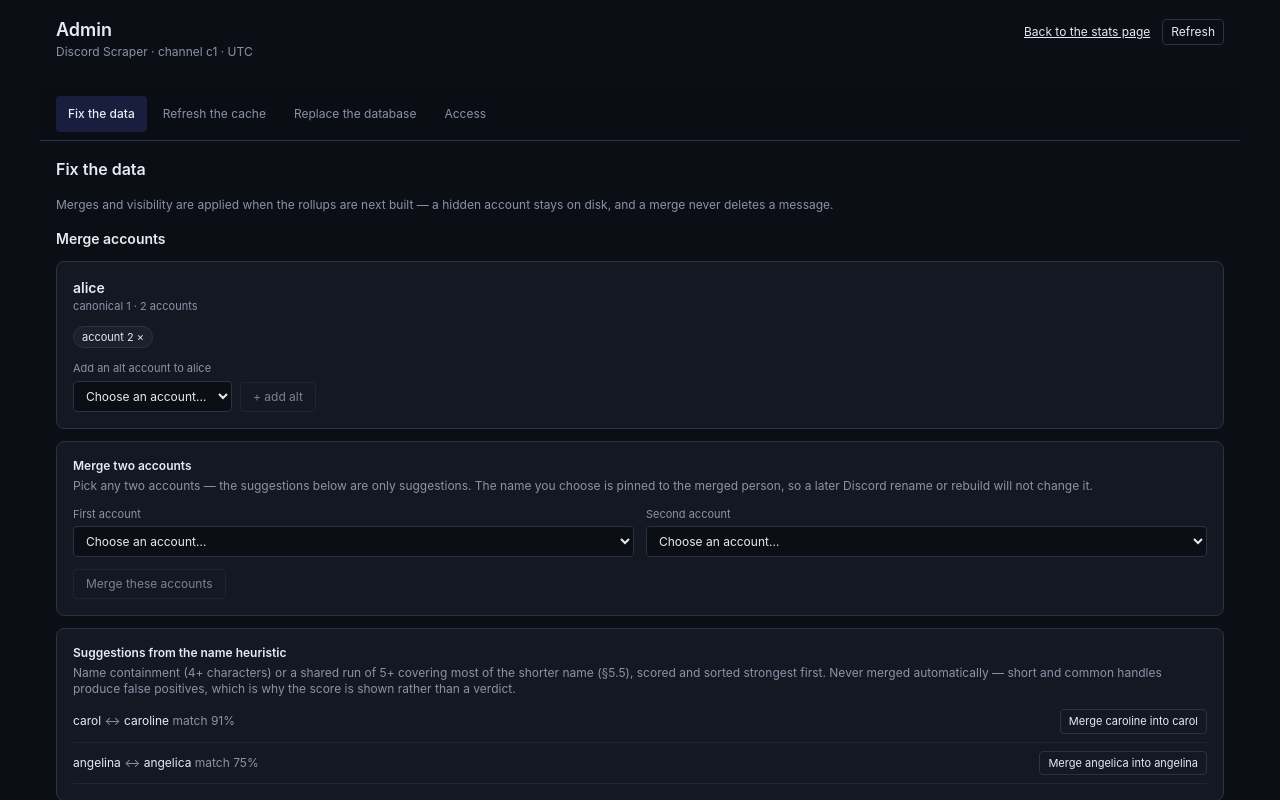
Test case: <Admin> › warns when the winning name is one another person already uses
Click the button "Fix the data": point(101, 114) [56,96,147,132]
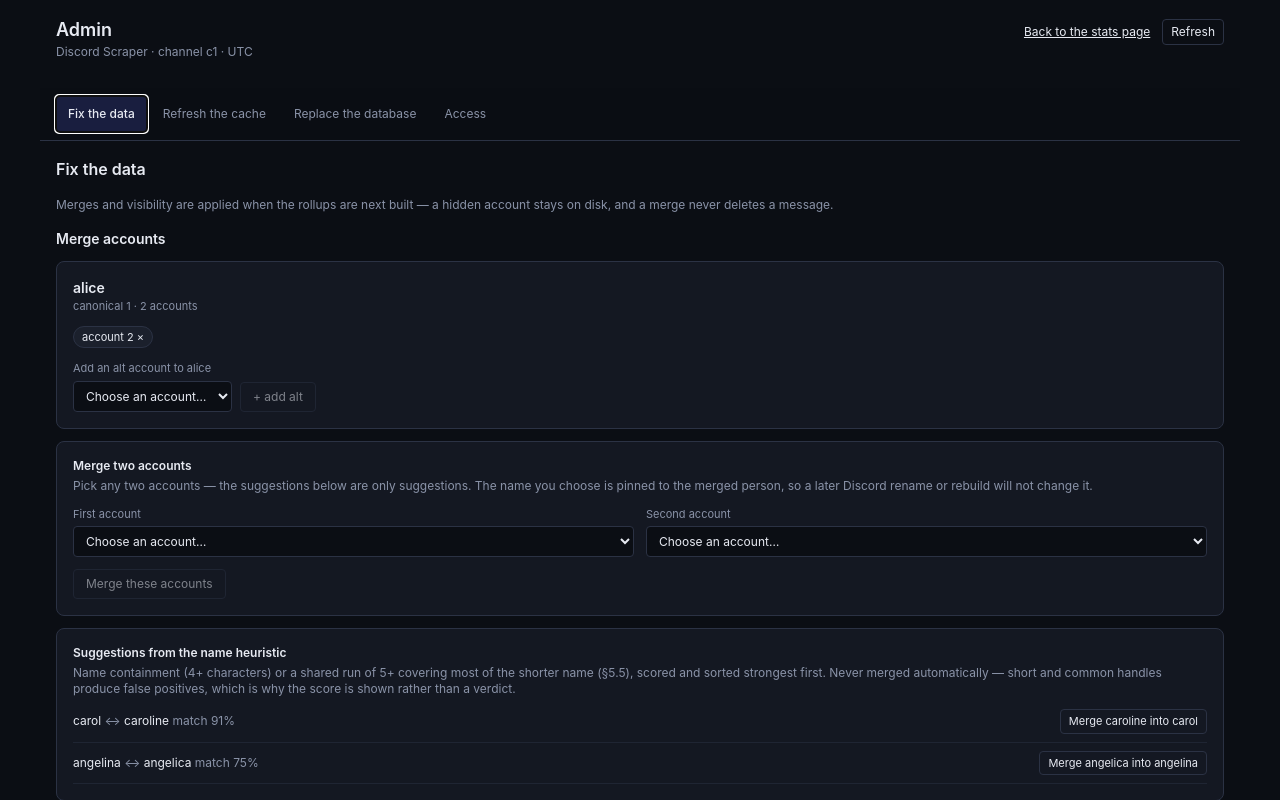
Select "dave (3)" in the dropdown labelled "First account": point(354, 542) [73,526,634,557]
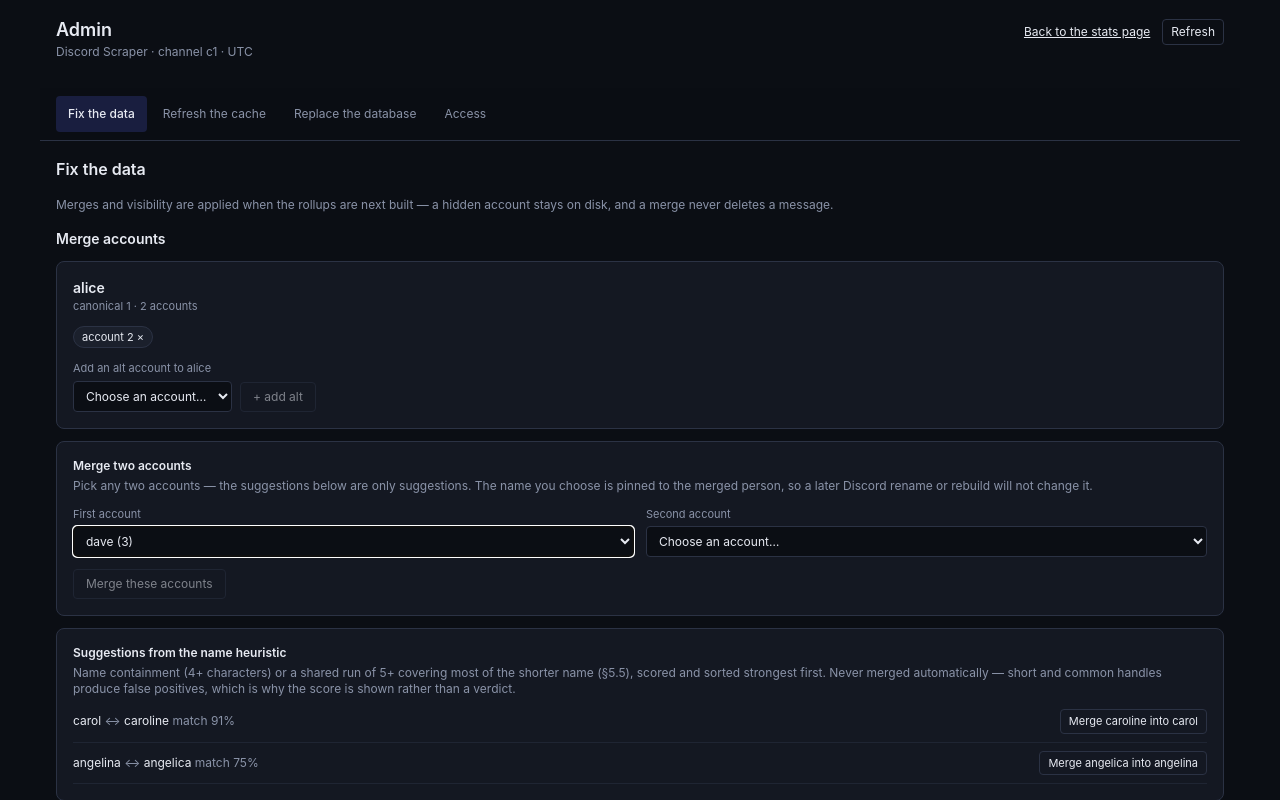
Select "account 2 (2)" in the dropdown labelled "Second account": point(926, 542) [646,526,1207,557]
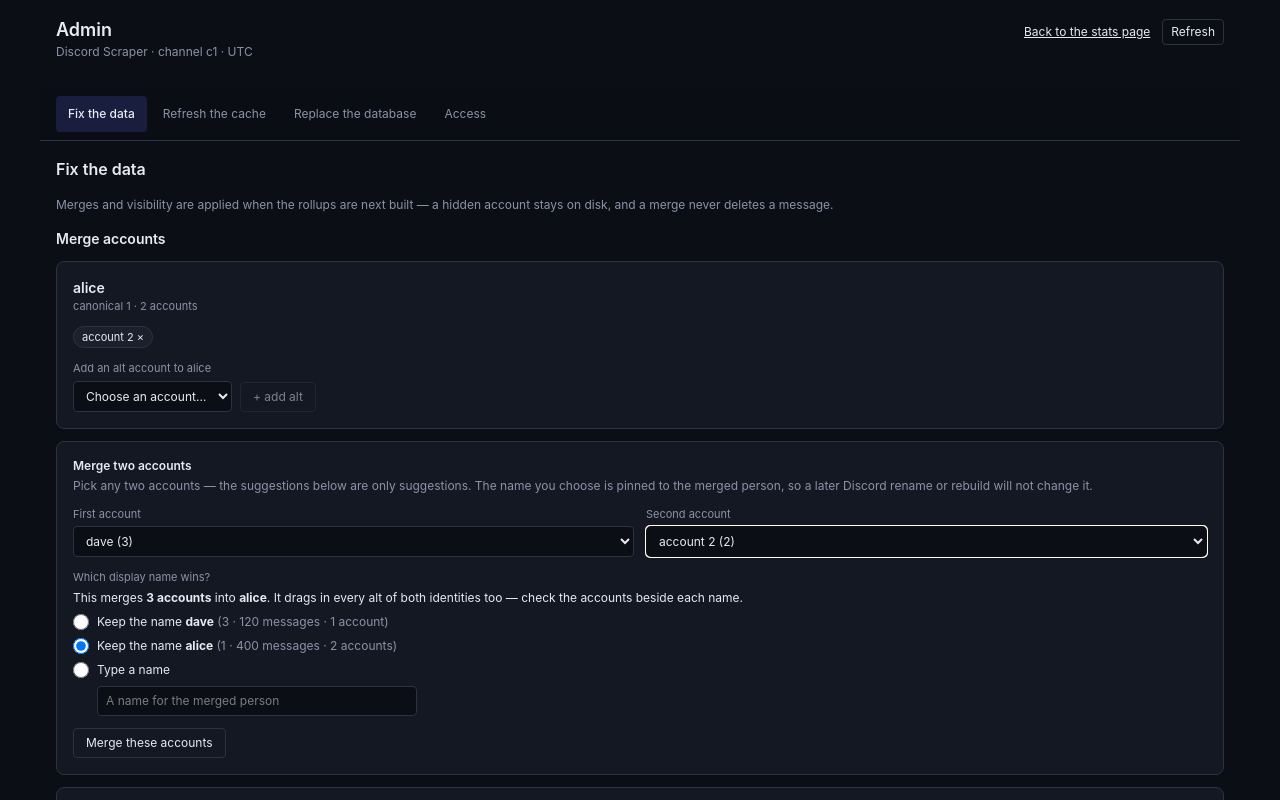
In the field named "or type a name": point(257, 700) [97,686,417,716], type "carol"
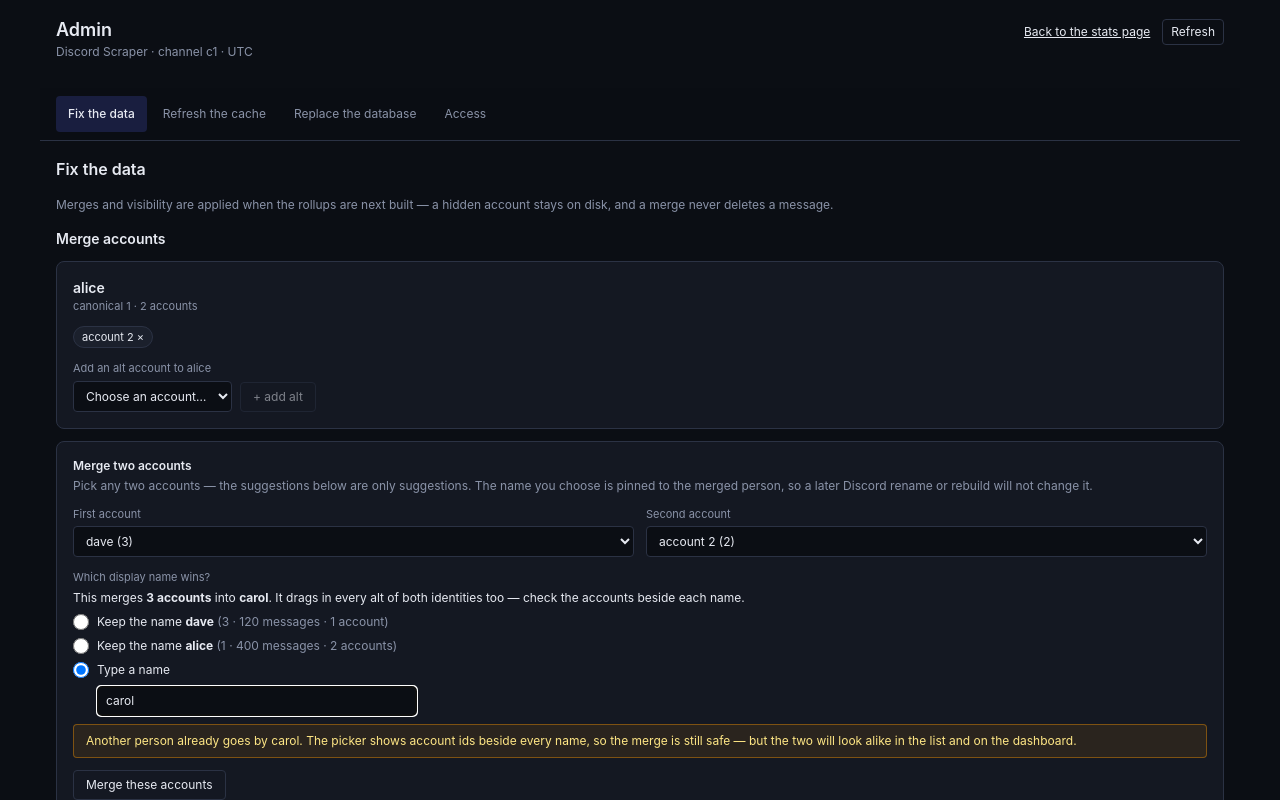
Check: the button "Merge these accounts" is enabled, box [73,770,226,799]
Check: the text "Another person already goes by carol" is shown, box [73,724,1207,758]
